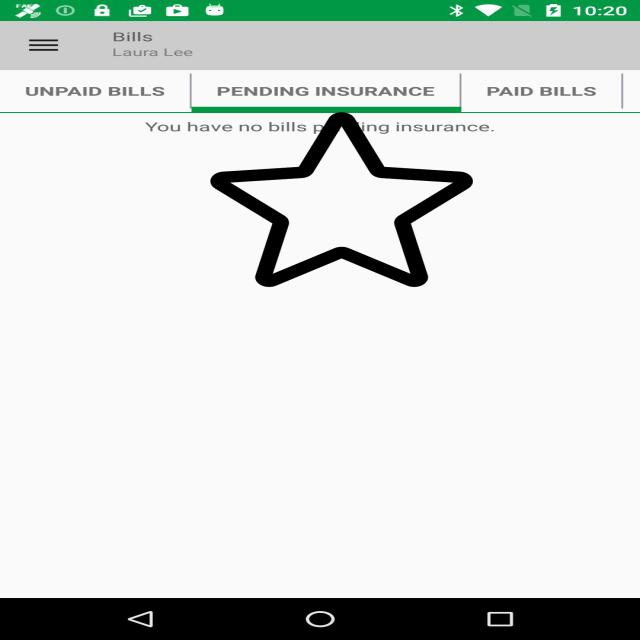forced continuity: (210, 108, 473, 291)
